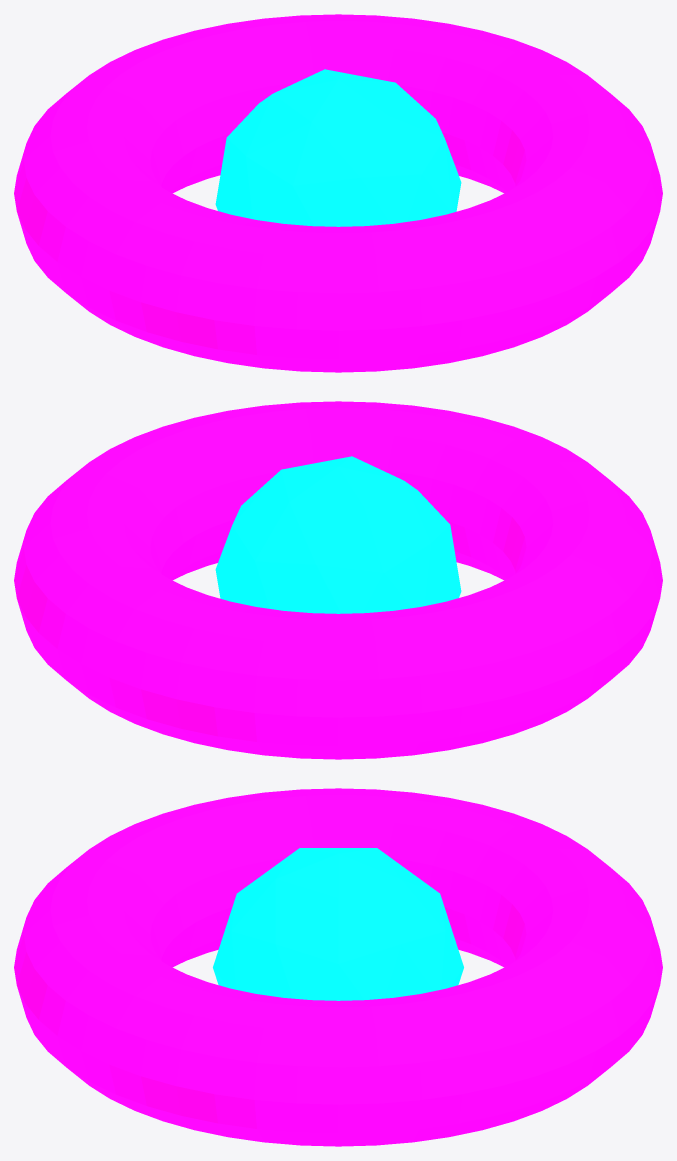
Rendered from anomaly_thermo.glb.
3 renders of one model, top to bottom at view 1: azimuth 30°, elevation 25°; view 2: azimuth 150°, elevation 25°; view 3: azimuth 270°, elevation 25°, orthographic.
Visible parts, largest first — view 1: Torus, Icosphere; view 2: Torus, Icosphere; view 3: Torus, Icosphere.
Part boxes in pixels (left/top/right/bottom): Torus: left=14, top=14, right=662, bottom=372; Icosphere: left=215, top=69, right=461, bottom=226; Torus: left=14, top=401, right=662, bottom=759; Icosphere: left=215, top=456, right=461, bottom=613; Torus: left=14, top=788, right=662, bottom=1146; Icosphere: left=213, top=848, right=463, bottom=1000.
Bounding box in the file's own units: 2.84 × 1.1 × 2.84.
